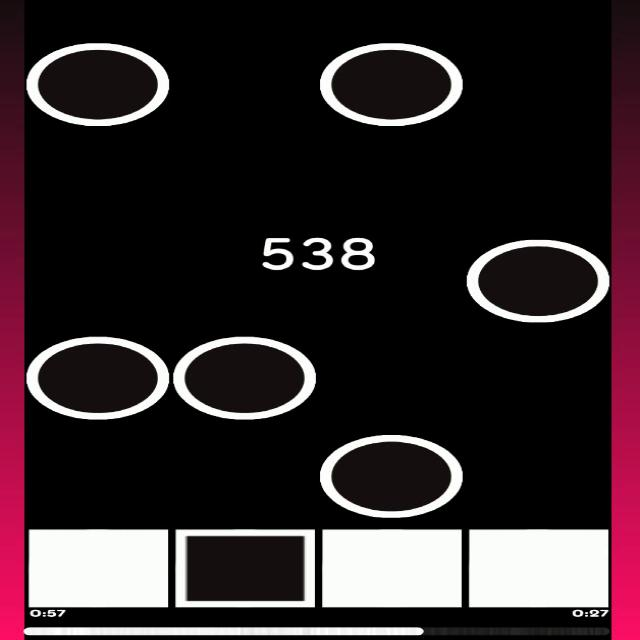note: (464, 235, 610, 322), (319, 40, 464, 125), (314, 434, 464, 516), (25, 42, 170, 124), (172, 335, 314, 418), (22, 337, 167, 418)
